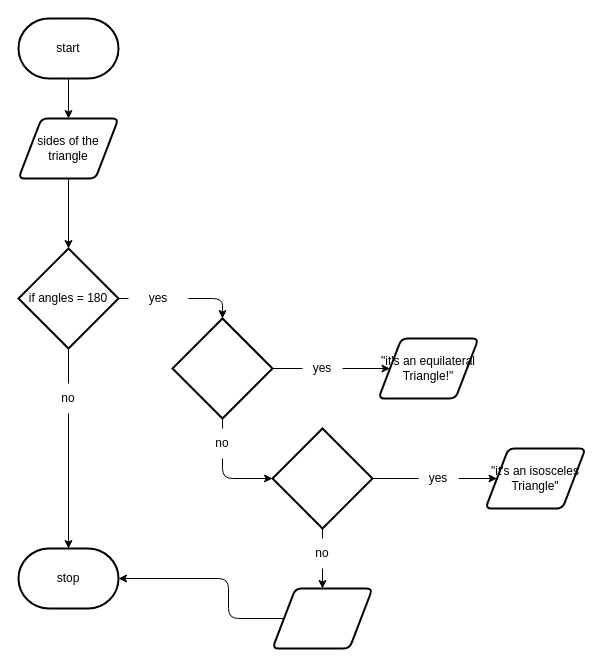
Image size: 603x666. Some labels were removed from this diagram. Here are the shapes that lost their labels. From the top down, the centre of each, then its label:
[222,368]: if a == b && b==c && a==c
[322,478]: if a==b || b==c || c==a
[322,618]: "it's a scalene Triangle"
